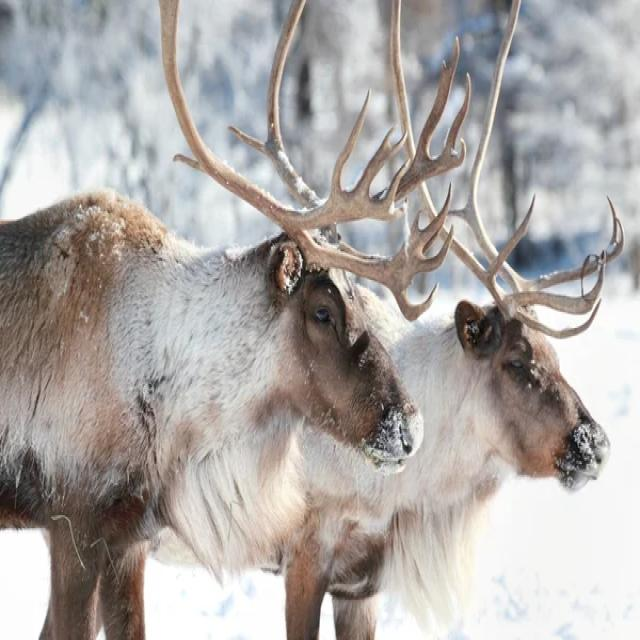Reindeer: (0, 0, 466, 638), (407, 0, 617, 640)
